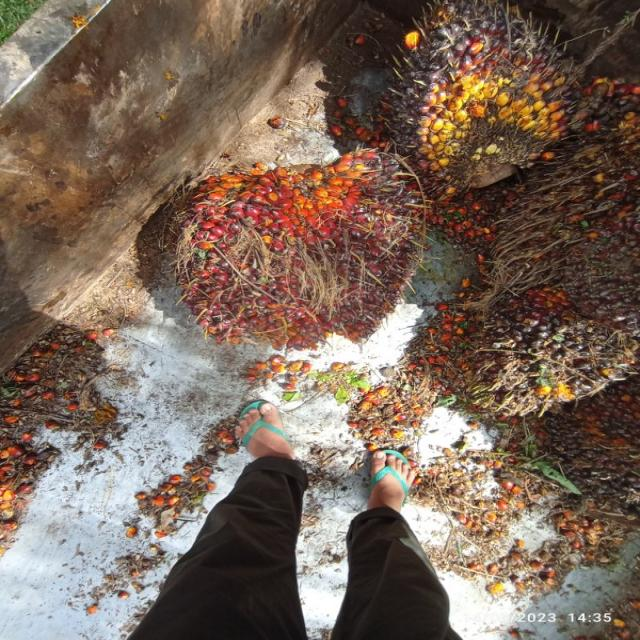fraksi 1: (136, 90, 478, 407)
